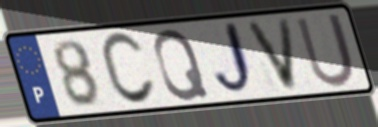8: (50, 38, 103, 109)
C: (98, 29, 159, 109)
J: (211, 19, 258, 100)
Q: (151, 27, 212, 104)
U: (292, 10, 358, 91)
V: (242, 16, 301, 94)
